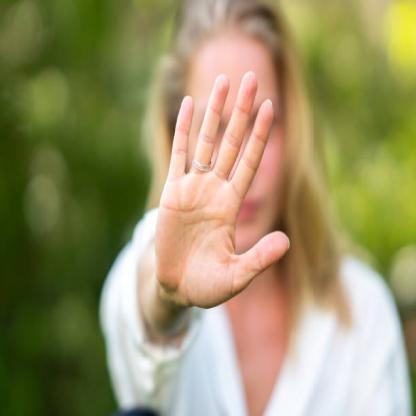stop: (152, 64, 294, 309)
